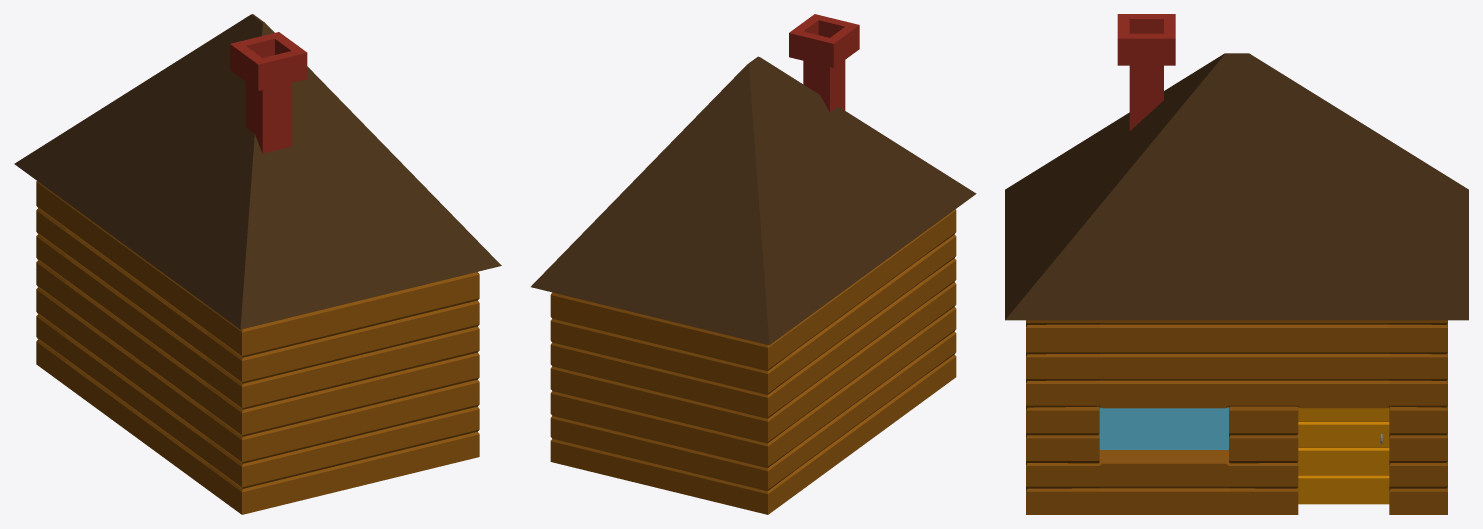
File: Wood House.fbx
3 views of the same model, side by side, from view 1: azimuth 30°, elevation 25°; view 2: azimuth 150°, elevation 25°; view 3: azimuth 270°, elevation 25° (orthographic). The views are drawn at different scales.
Visible parts, largest first — view 1: Cube, Cube.002, Cube.001; view 2: Cube, Cube.002, Cube.001; view 3: Cube.002, Cube, Cube.003, Cube.004, Cube.001.
Boxes of the visible parts, left/top/right/bottom form: Cube: left=36, top=181, right=479, bottom=514; Cube.002: left=14, top=14, right=501, bottom=329; Cube.001: left=230, top=32, right=307, bottom=153; Cube: left=550, top=209, right=956, bottom=514; Cube.002: left=531, top=56, right=976, bottom=345; Cube.001: left=789, top=14, right=859, bottom=111; Cube.002: left=1005, top=53, right=1468, bottom=320; Cube: left=1026, top=320, right=1447, bottom=514; Cube.003: left=1298, top=407, right=1389, bottom=504; Cube.004: left=1099, top=407, right=1228, bottom=449; Cube.001: left=1117, top=14, right=1175, bottom=130.
Size of the model in its own units: 440 by 648 by 660.
